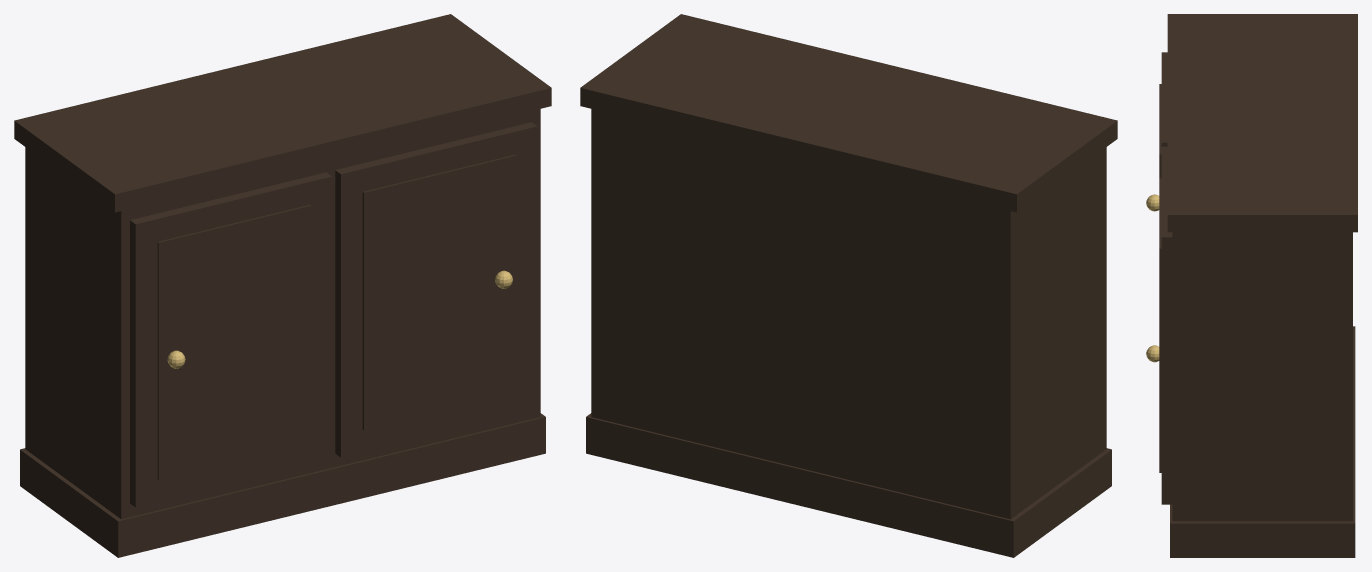
File: SM_Furniture_SideCabinet_01.glb
3 renders of one model, left to right at view 1: azimuth 30°, elevation 25°; view 2: azimuth 150°, elevation 25°; view 3: azimuth 270°, elevation 25°, orthographic. The views are drawn at different scales.
Visible parts, largest first — view 1: SM_Furniture_SideCabinet_01; view 2: SM_Furniture_SideCabinet_01; view 3: SM_Furniture_SideCabinet_01.
Boxes of the visible parts, x1,y1,x2,y2 form: SM_Furniture_SideCabinet_01: [14, 14, 551, 557]; SM_Furniture_SideCabinet_01: [580, 14, 1117, 557]; SM_Furniture_SideCabinet_01: [1146, 14, 1357, 557].
Bounding box in the file's own units: 1 × 0.8 × 0.445.
